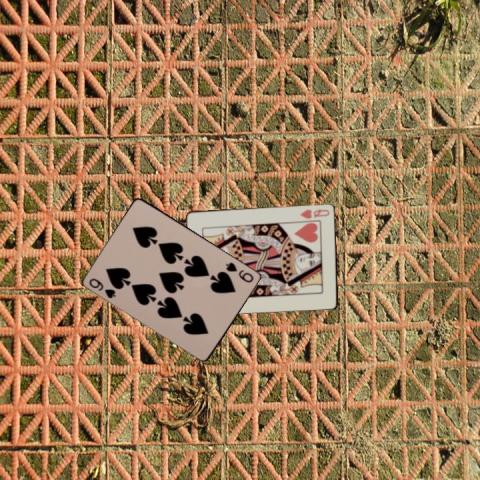9s: (224, 259, 256, 284), (86, 275, 118, 300)
Qh: (297, 206, 331, 220)
